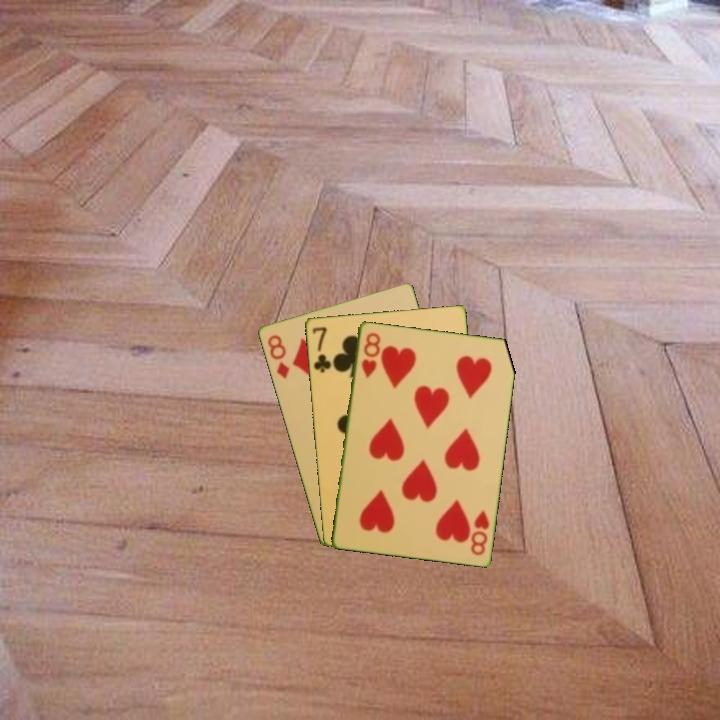7c: (309, 323, 334, 375)
8d: (264, 331, 292, 381)
8h: (467, 507, 492, 558), (358, 329, 382, 380)
